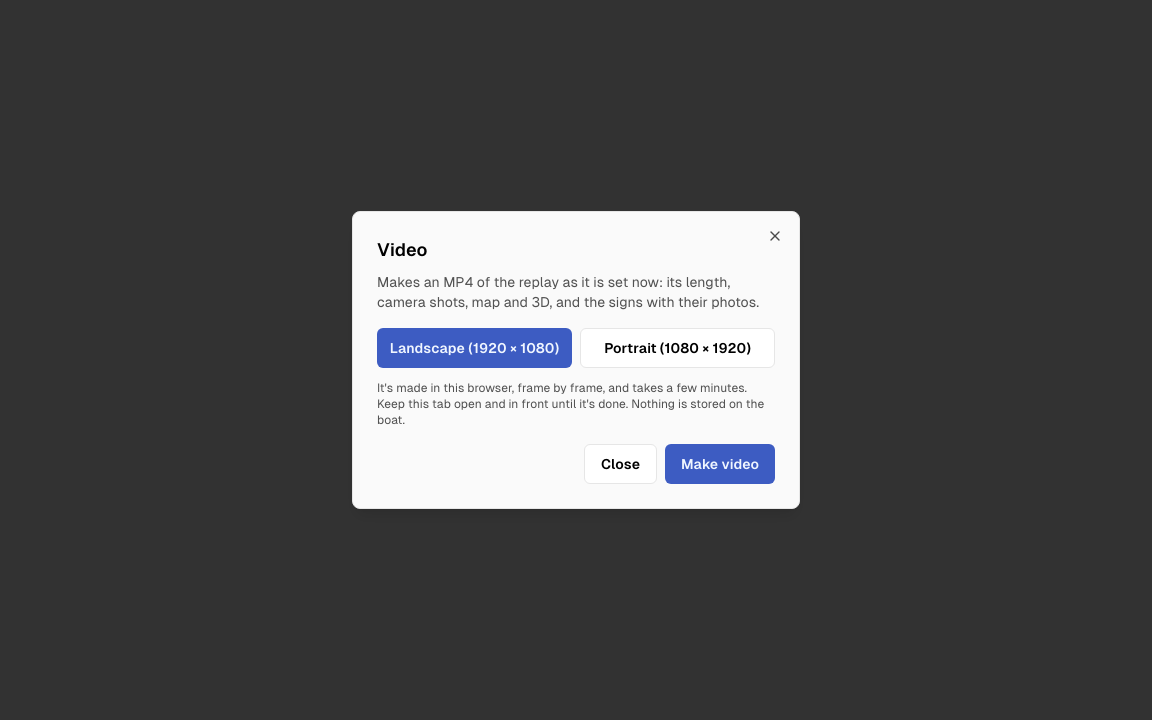
it: PassageVideoDialog › shows a progress bar and the frame it has got to, with Cancel
What coordinates should you click on to do the following:
click the button "Make video"
I would click on:
 (720, 464)
Its box is [665,444,775,484].
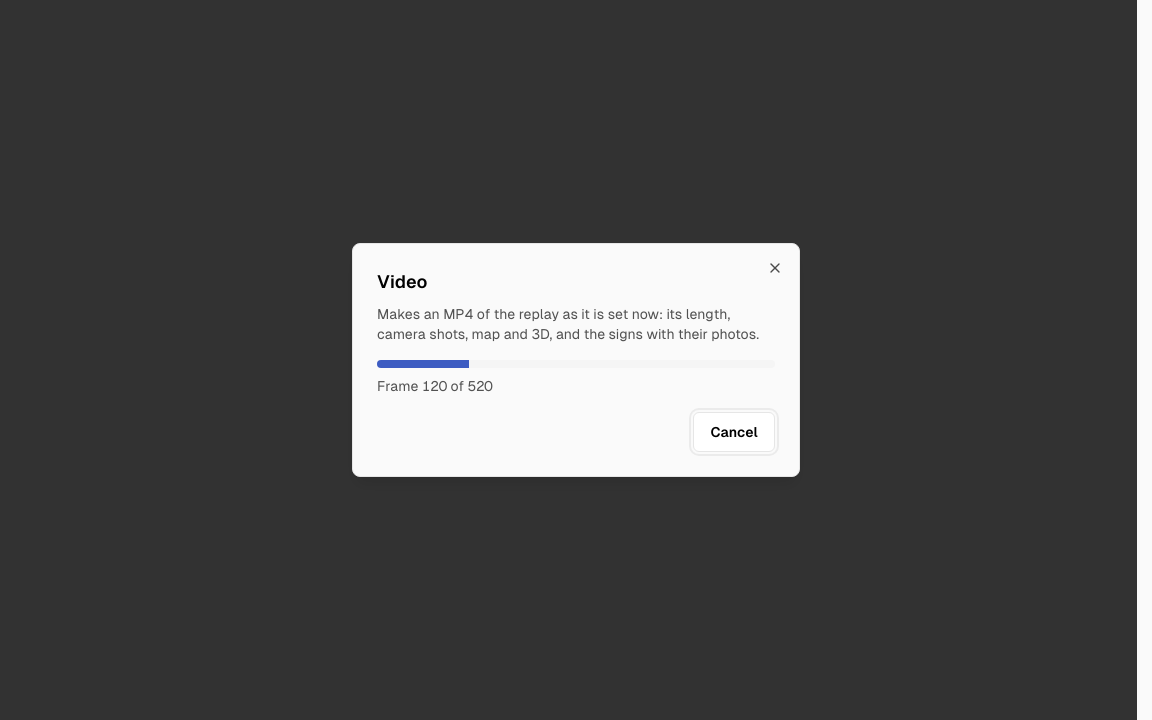
Now the text "Frame 120 of 520" is shown, box [377,378,493,394]
Now the button "Cancel" is shown, box [693,412,775,452]
